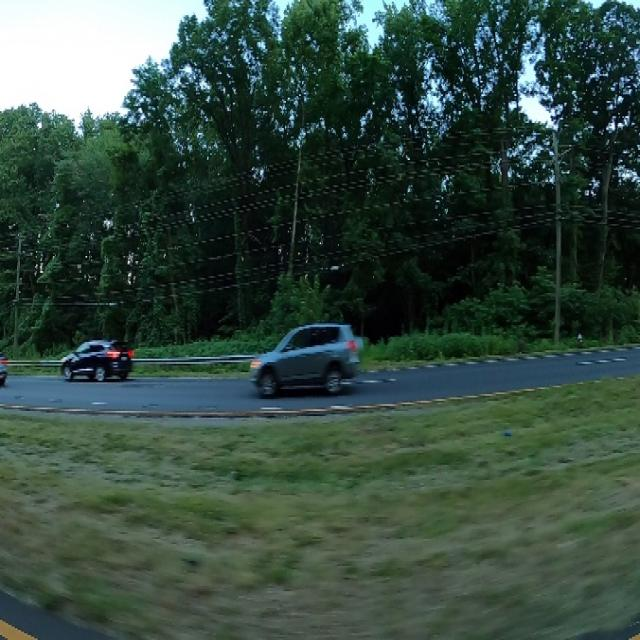car: (244, 311, 366, 406), (59, 329, 134, 394)
